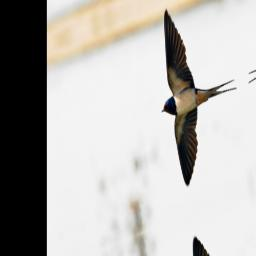Swallow: (148, 0, 248, 198)
